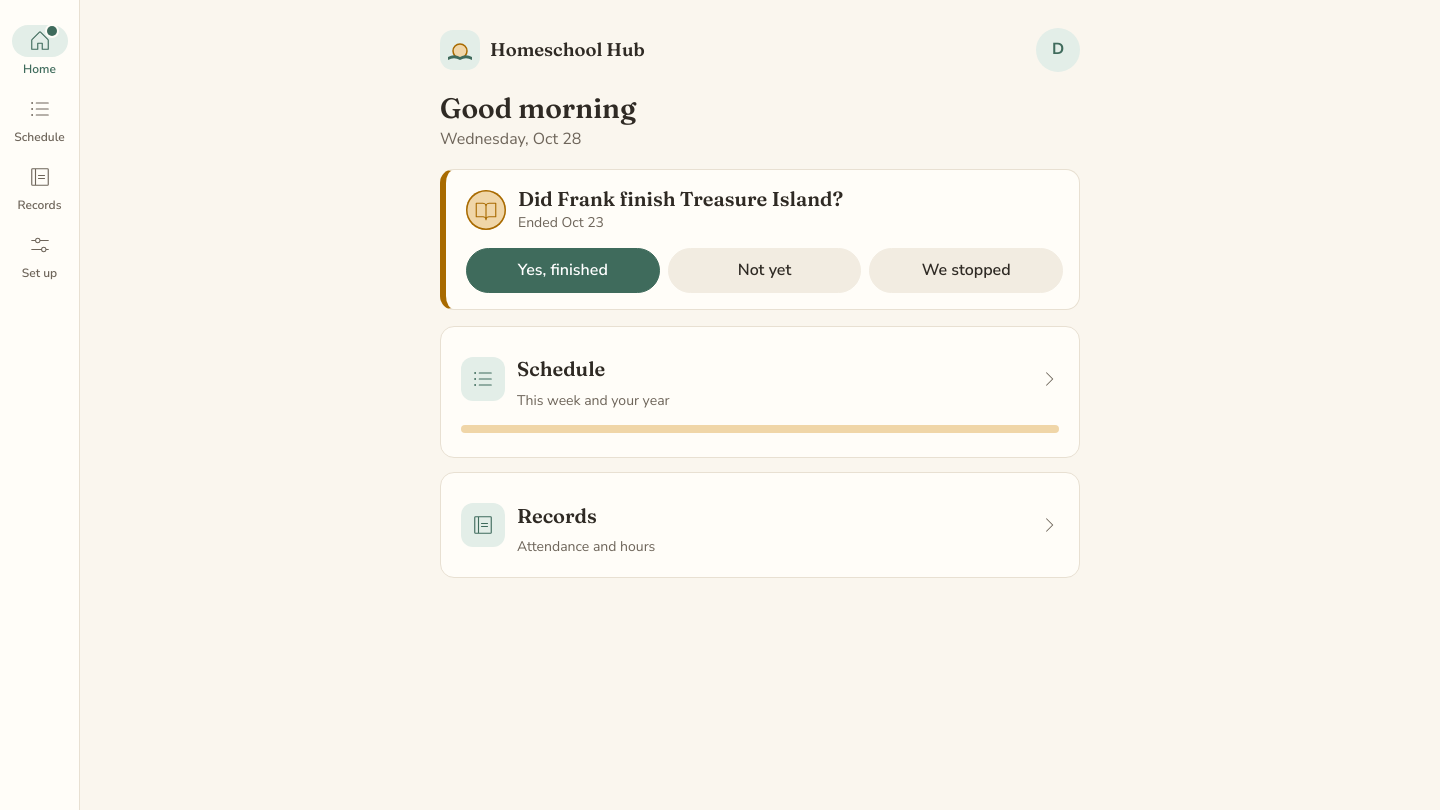
Test: the completion question on Home (S12-03) › shows the API's message when saving fails, and keeps the question
Click the button "Yes, finished": (563, 270) [466,248,660,293]
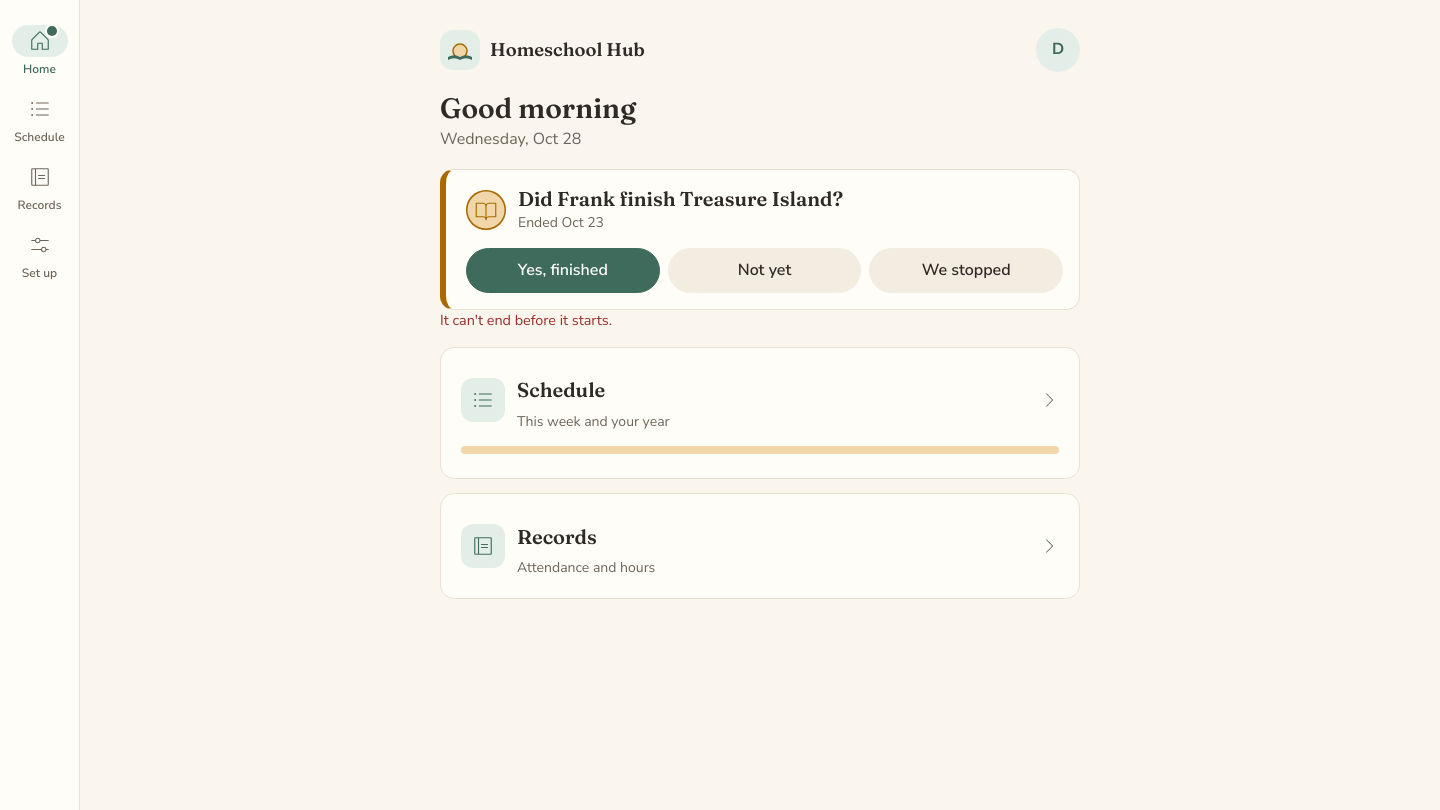
Check: the element named "A question for you" is shown, box [440,169,1080,331]
Check: the message reads "It can't end before it starts.", box [440,310,612,330]
